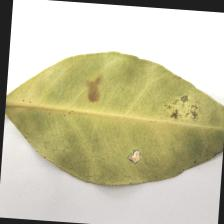black spot: (72, 72, 208, 176)
